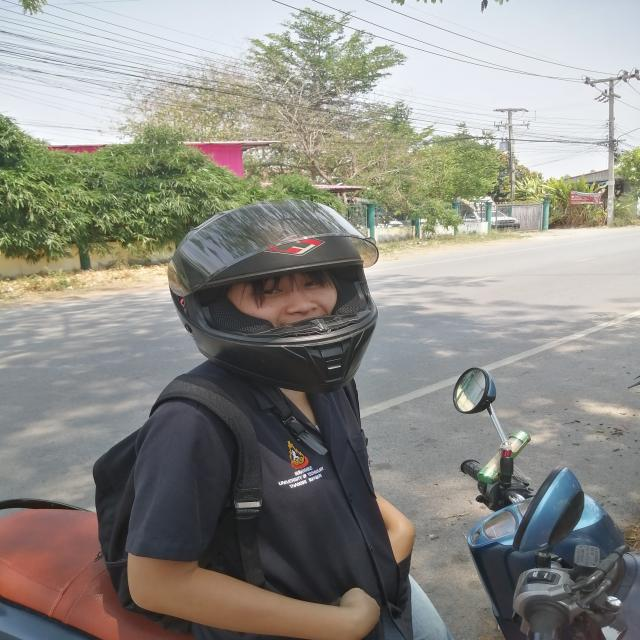helmet: (161, 194, 386, 398)
